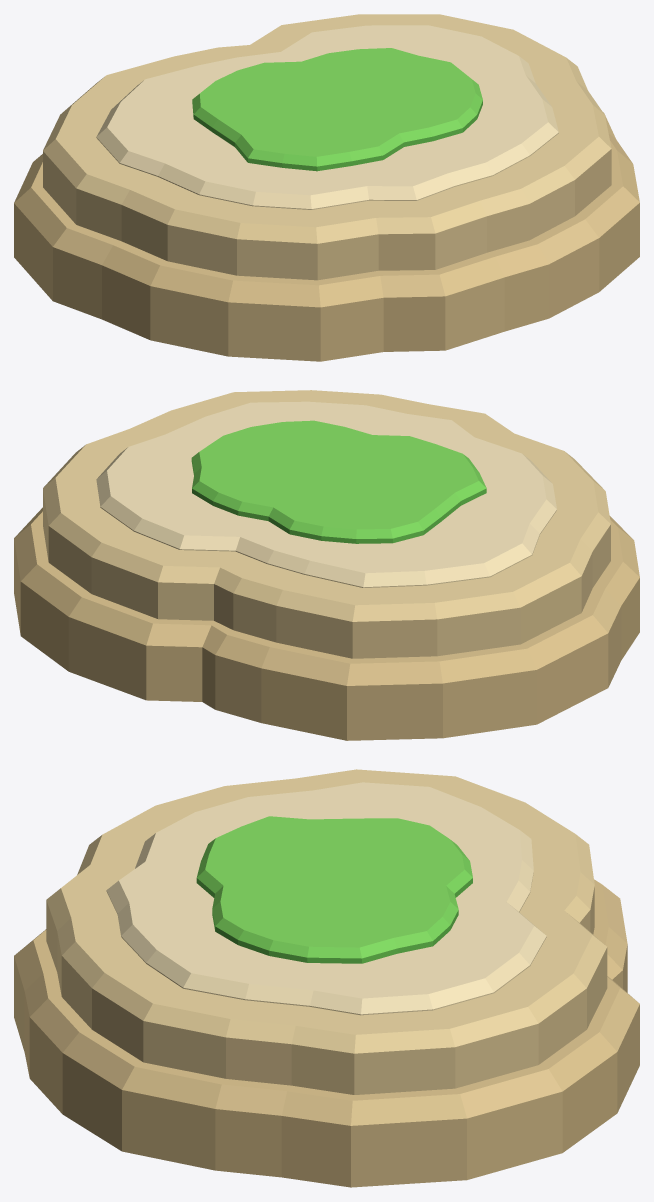
Rendered from Islet_3.glb.
3 views of the same model, one above another, from view 1: azimuth 30°, elevation 25°; view 2: azimuth 150°, elevation 25°; view 3: azimuth 270°, elevation 25° (orthographic). The views are drawn at different scales.
Parts seen in each view (by area): view 1: Islet_3; view 2: Islet_3; view 3: Islet_3.
Part boxes in pixels (x1,y1,x2,y2): Islet_3: (14, 14, 639, 361); Islet_3: (14, 390, 639, 740); Islet_3: (14, 769, 639, 1187).
Size of the model in its own units: 30.81 by 7.4 by 26.7.
Materials: 1 (1 with a texture image).
